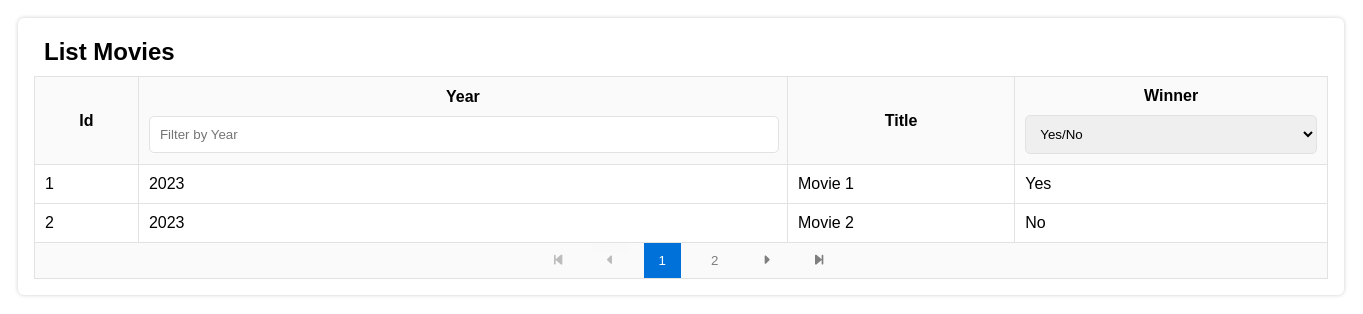
Test case: MovieList component › handles pagination correctly
Click the button named "Next Page" at (767, 260), box [748,243,785,278]
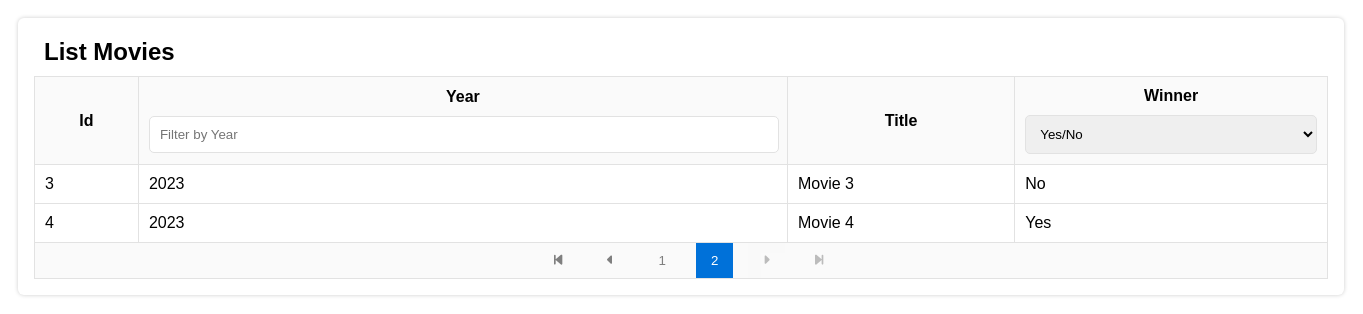
Now the text "Movie 3" is shown, box [788,164,1015,204]
Now the text "Movie 4" is shown, box [788,204,1015,242]
